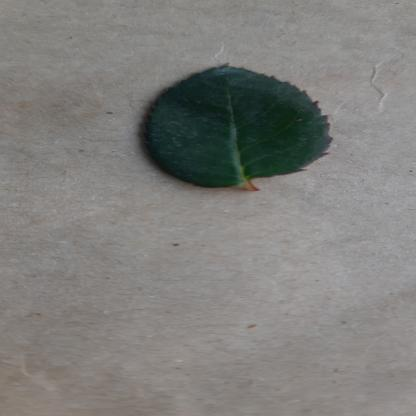normal: (138, 61, 335, 189)
